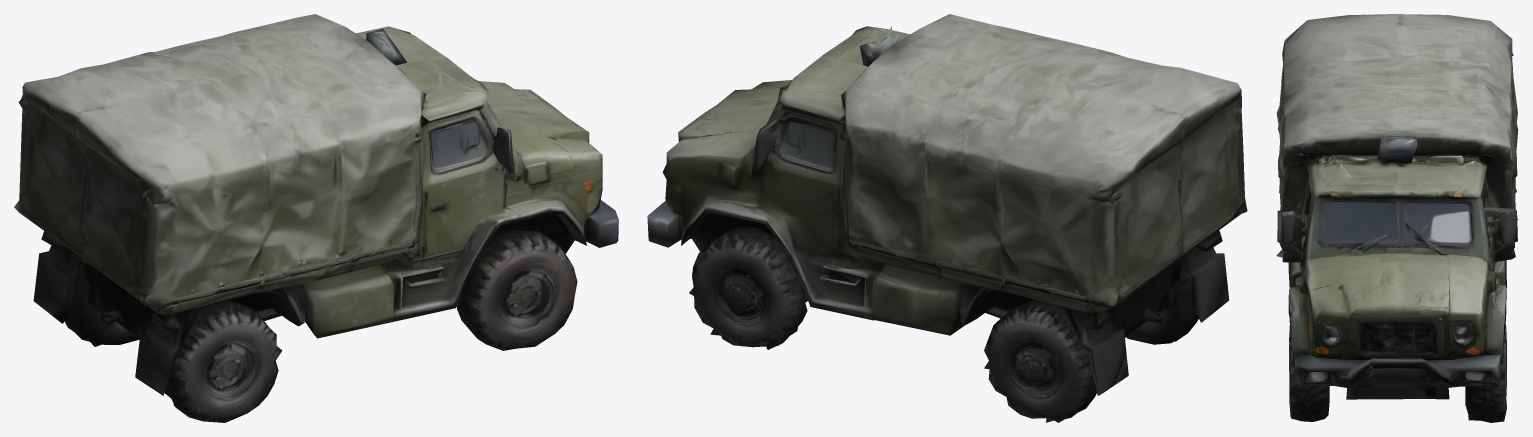
Rendered from xd_truck.glb.
3 views of the same model, side by side, from view 1: azimuth 30°, elevation 25°; view 2: azimuth 150°, elevation 25°; view 3: azimuth 270°, elevation 25° (orthographic). The views are drawn at different scales.
Parts seen in each view (by area): view 1: tripo_node_025f9061-5ca5-40d7-aaca-eab2069afb9d; view 2: tripo_node_025f9061-5ca5-40d7-aaca-eab2069afb9d; view 3: tripo_node_025f9061-5ca5-40d7-aaca-eab2069afb9d.
Boxes of the visible parts, x1,y1,x2,y2 form: tripo_node_025f9061-5ca5-40d7-aaca-eab2069afb9d: [14, 14, 618, 422]; tripo_node_025f9061-5ca5-40d7-aaca-eab2069afb9d: [647, 14, 1247, 422]; tripo_node_025f9061-5ca5-40d7-aaca-eab2069afb9d: [1276, 14, 1518, 422].
Size of the model in its own units: 1 by 0.5583 by 0.4974.
Materials: 1 (1 with a texture image).
